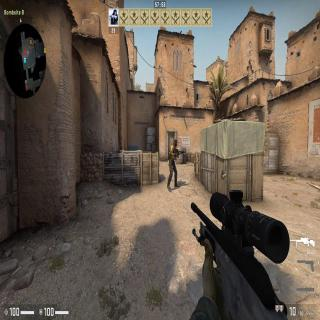T-Body: (168, 138, 179, 190)
T-Head: (174, 139, 178, 147)
